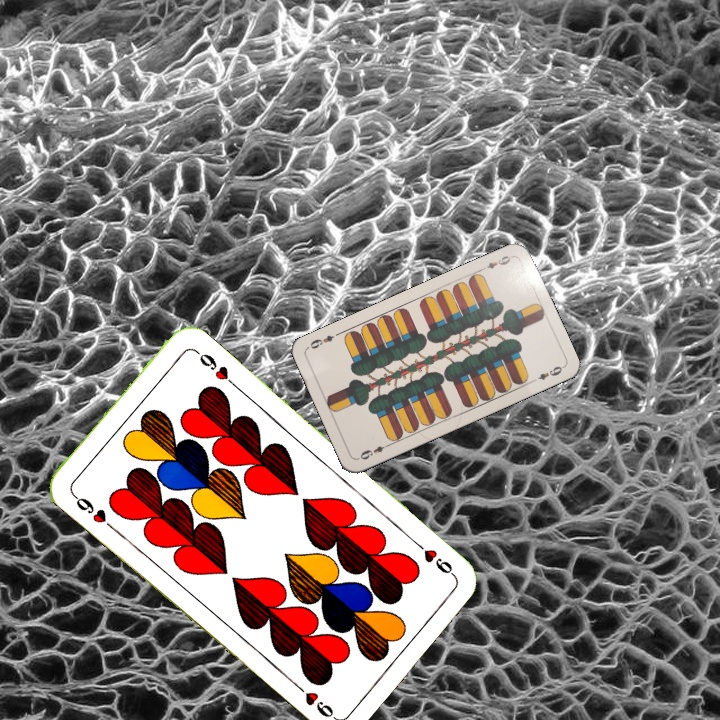E9: (477, 251, 513, 274), (356, 440, 393, 462)
H9: (409, 536, 457, 579), (67, 489, 109, 526)
